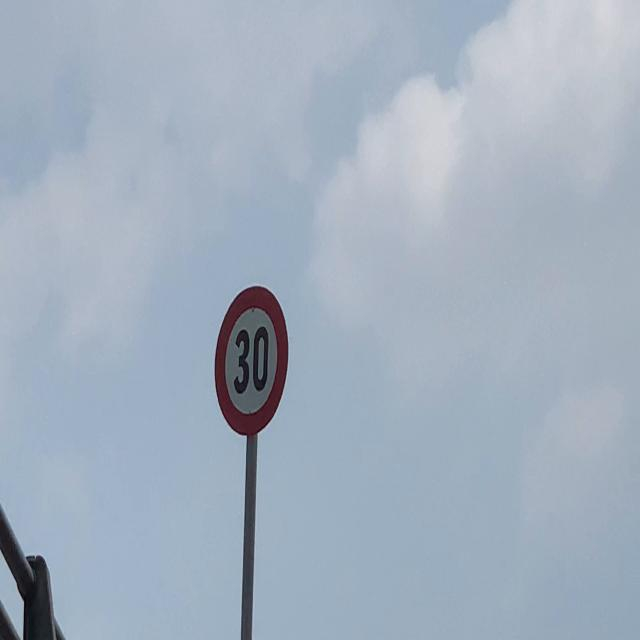Toc do toi da: (214, 282, 288, 441)
